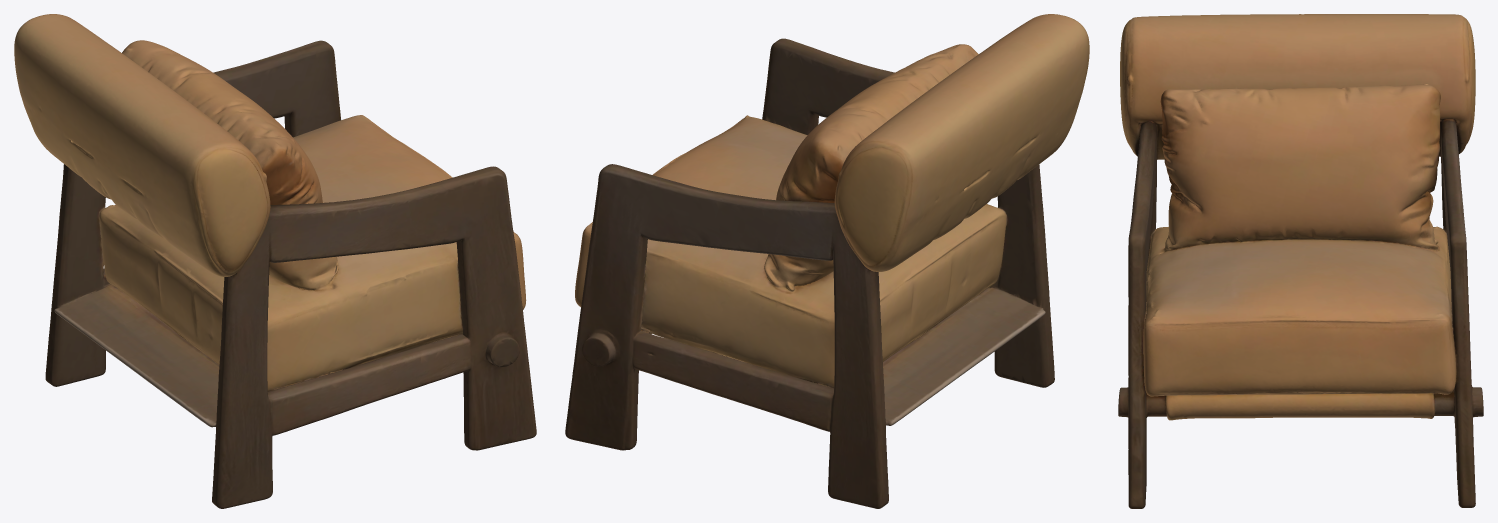
File: c01-stylized.glb
The picture shows the model from 3 angles, left to right: view 1: azimuth 30°, elevation 25°; view 2: azimuth 150°, elevation 25°; view 3: azimuth 270°, elevation 25°; orthographic projection. The views are drawn at different scales.
Visible parts, largest first — view 1: tripo_node_7a3c41ba-0c4b-46c8-9745-a084eb59993b; view 2: tripo_node_7a3c41ba-0c4b-46c8-9745-a084eb59993b; view 3: tripo_node_7a3c41ba-0c4b-46c8-9745-a084eb59993b.
Boxes of the visible parts, x1=… form: tripo_node_7a3c41ba-0c4b-46c8-9745-a084eb59993b: x1=14, y1=14, x2=536, y2=508; tripo_node_7a3c41ba-0c4b-46c8-9745-a084eb59993b: x1=565, y1=14, x2=1089, y2=508; tripo_node_7a3c41ba-0c4b-46c8-9745-a084eb59993b: x1=1118, y1=14, x2=1483, y2=508.
Bounding box in the file's own units: 1 × 0.9931 × 0.9488.
1 material, 1 textured.
